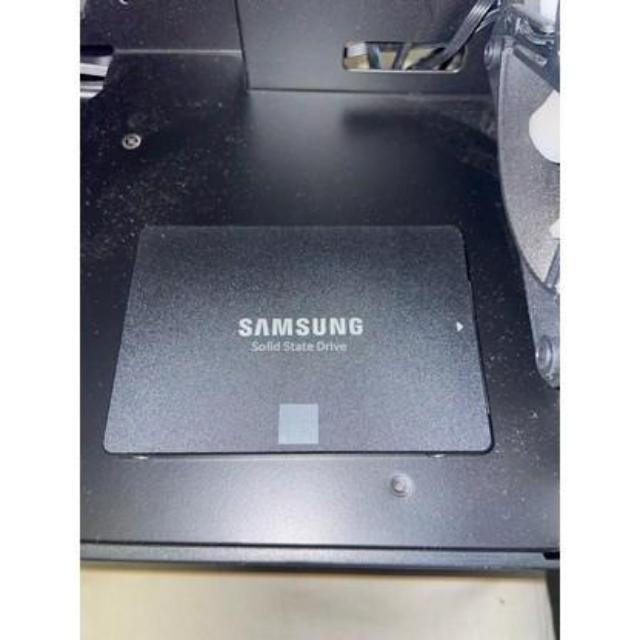DISK: (91, 218, 500, 464)
